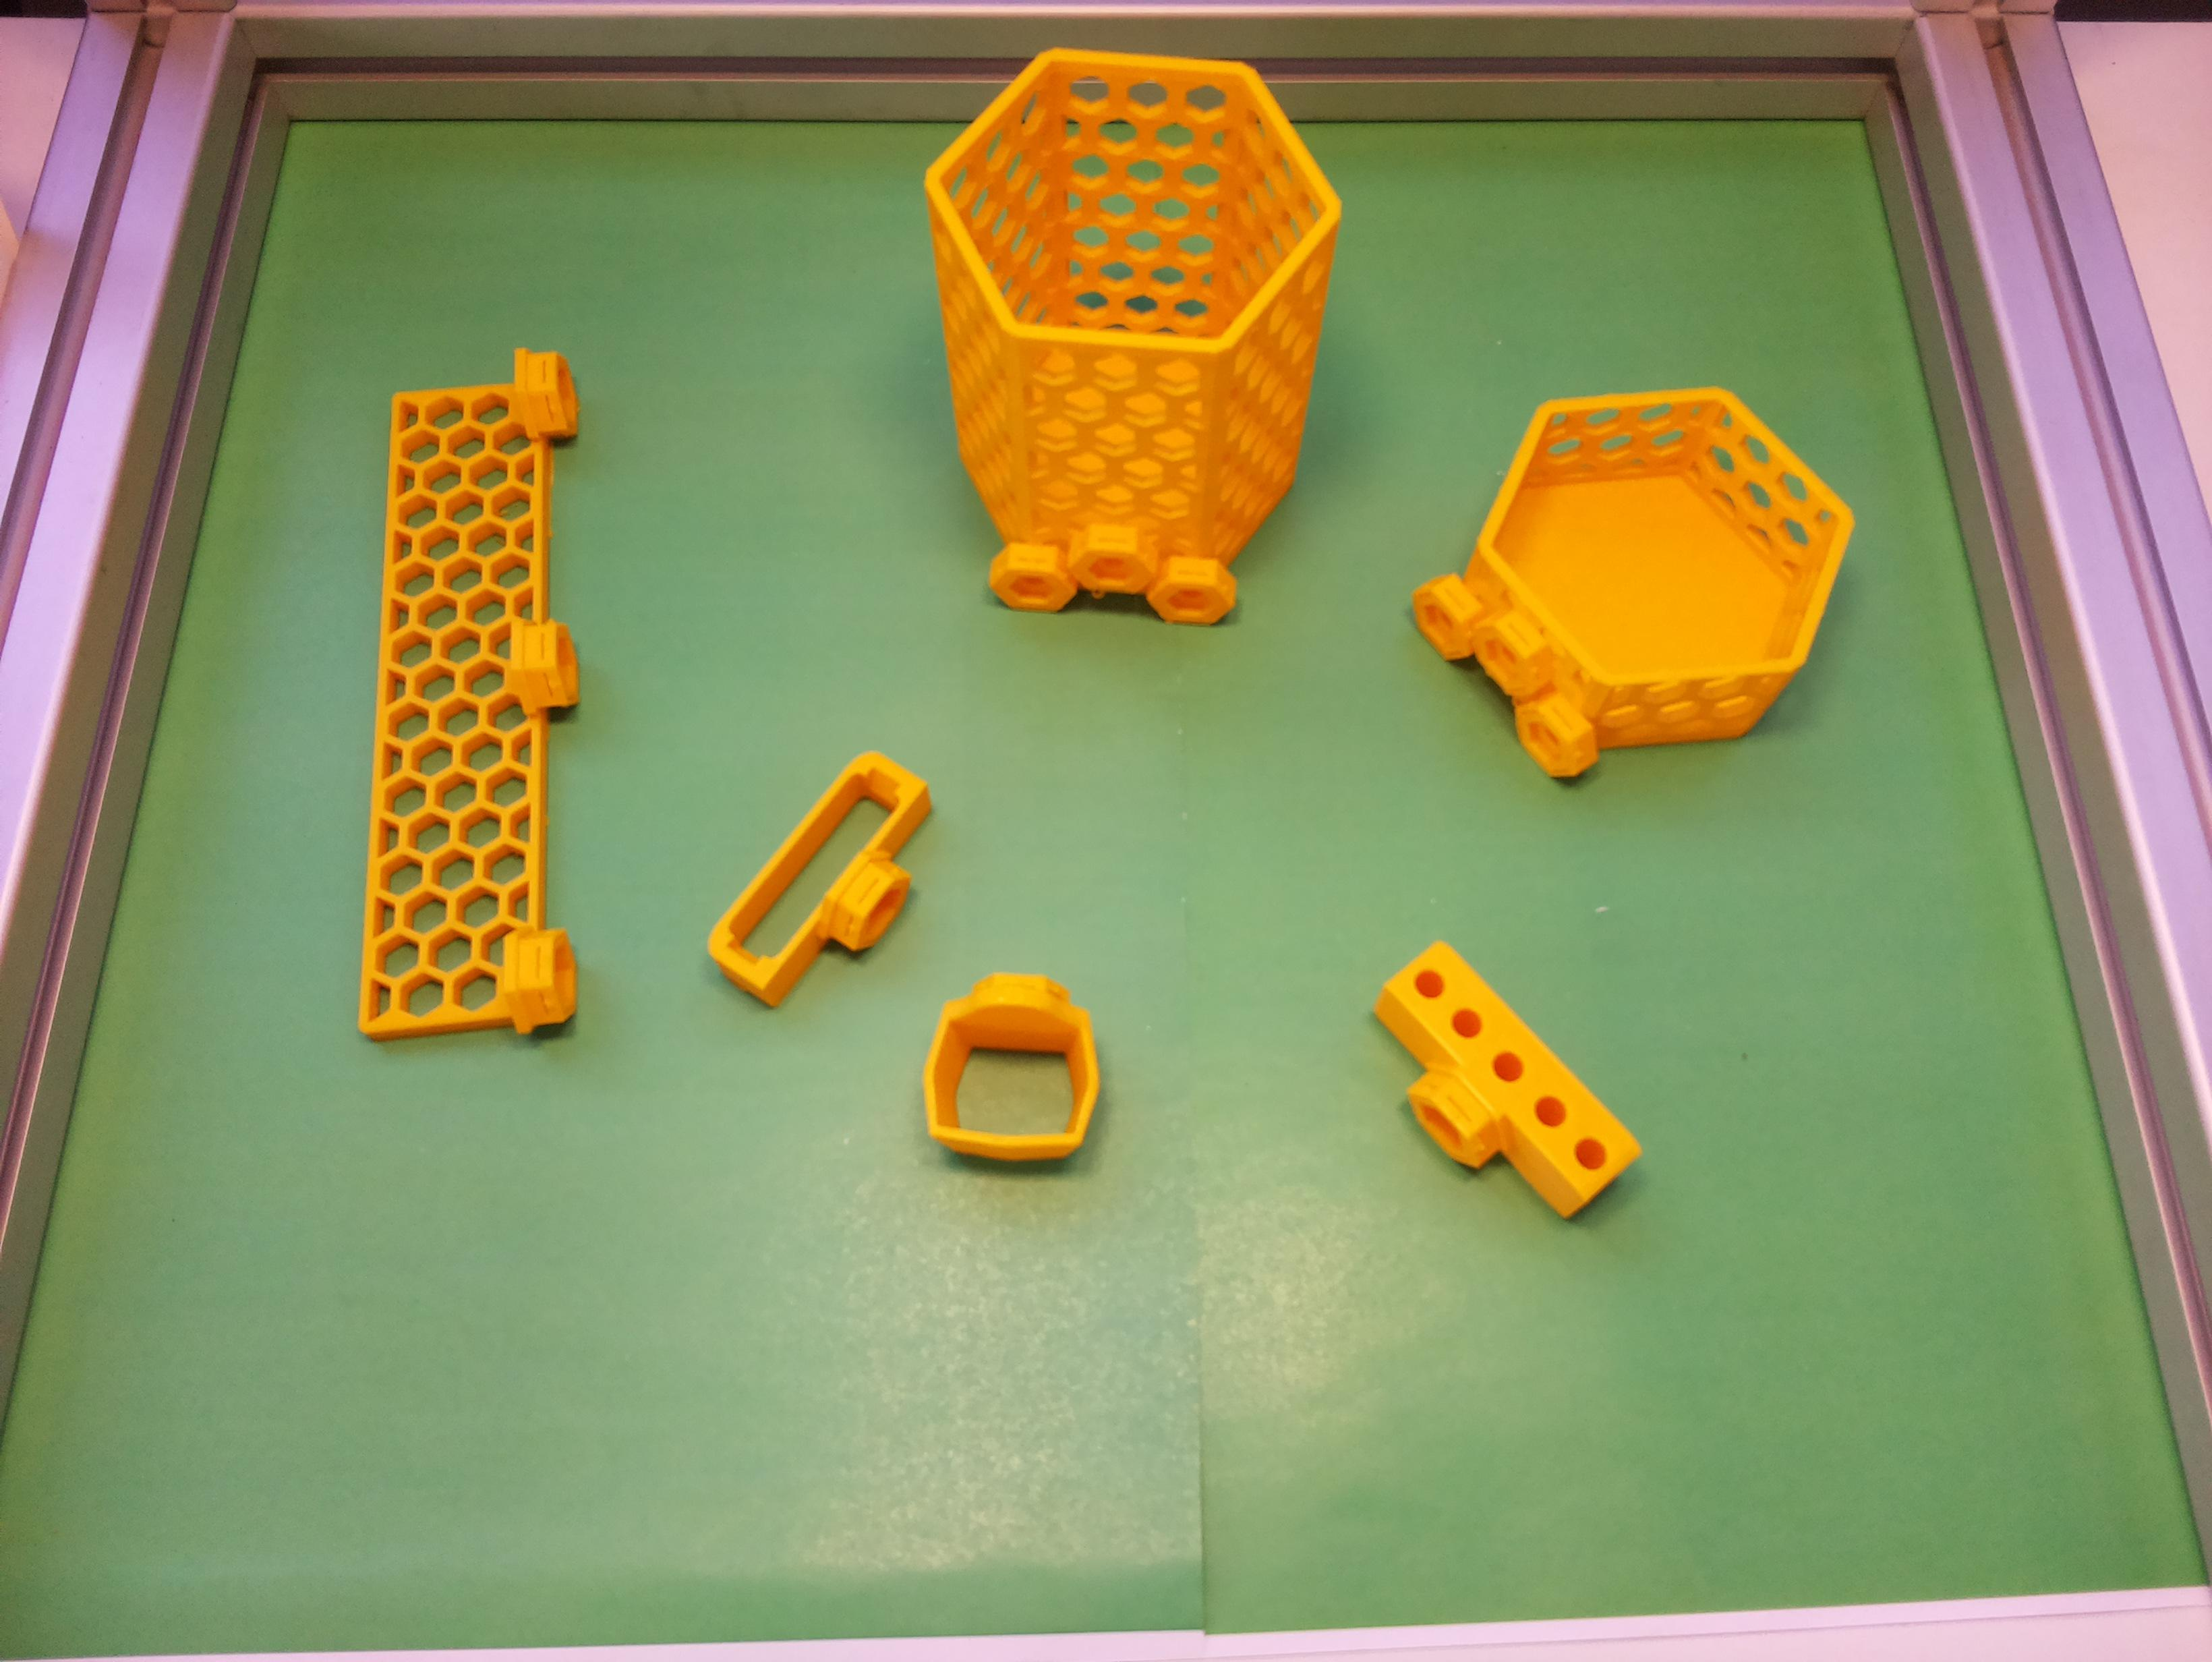bit_holder: (1332, 932, 1646, 1250)
bottle_holder: (1364, 306, 1906, 854)
cup_holder: (897, 42, 1351, 630)
cutter_holder: (688, 737, 976, 1034)
scissor_holder: (924, 974, 1098, 1164)
tool_holder: (360, 347, 581, 1042)
